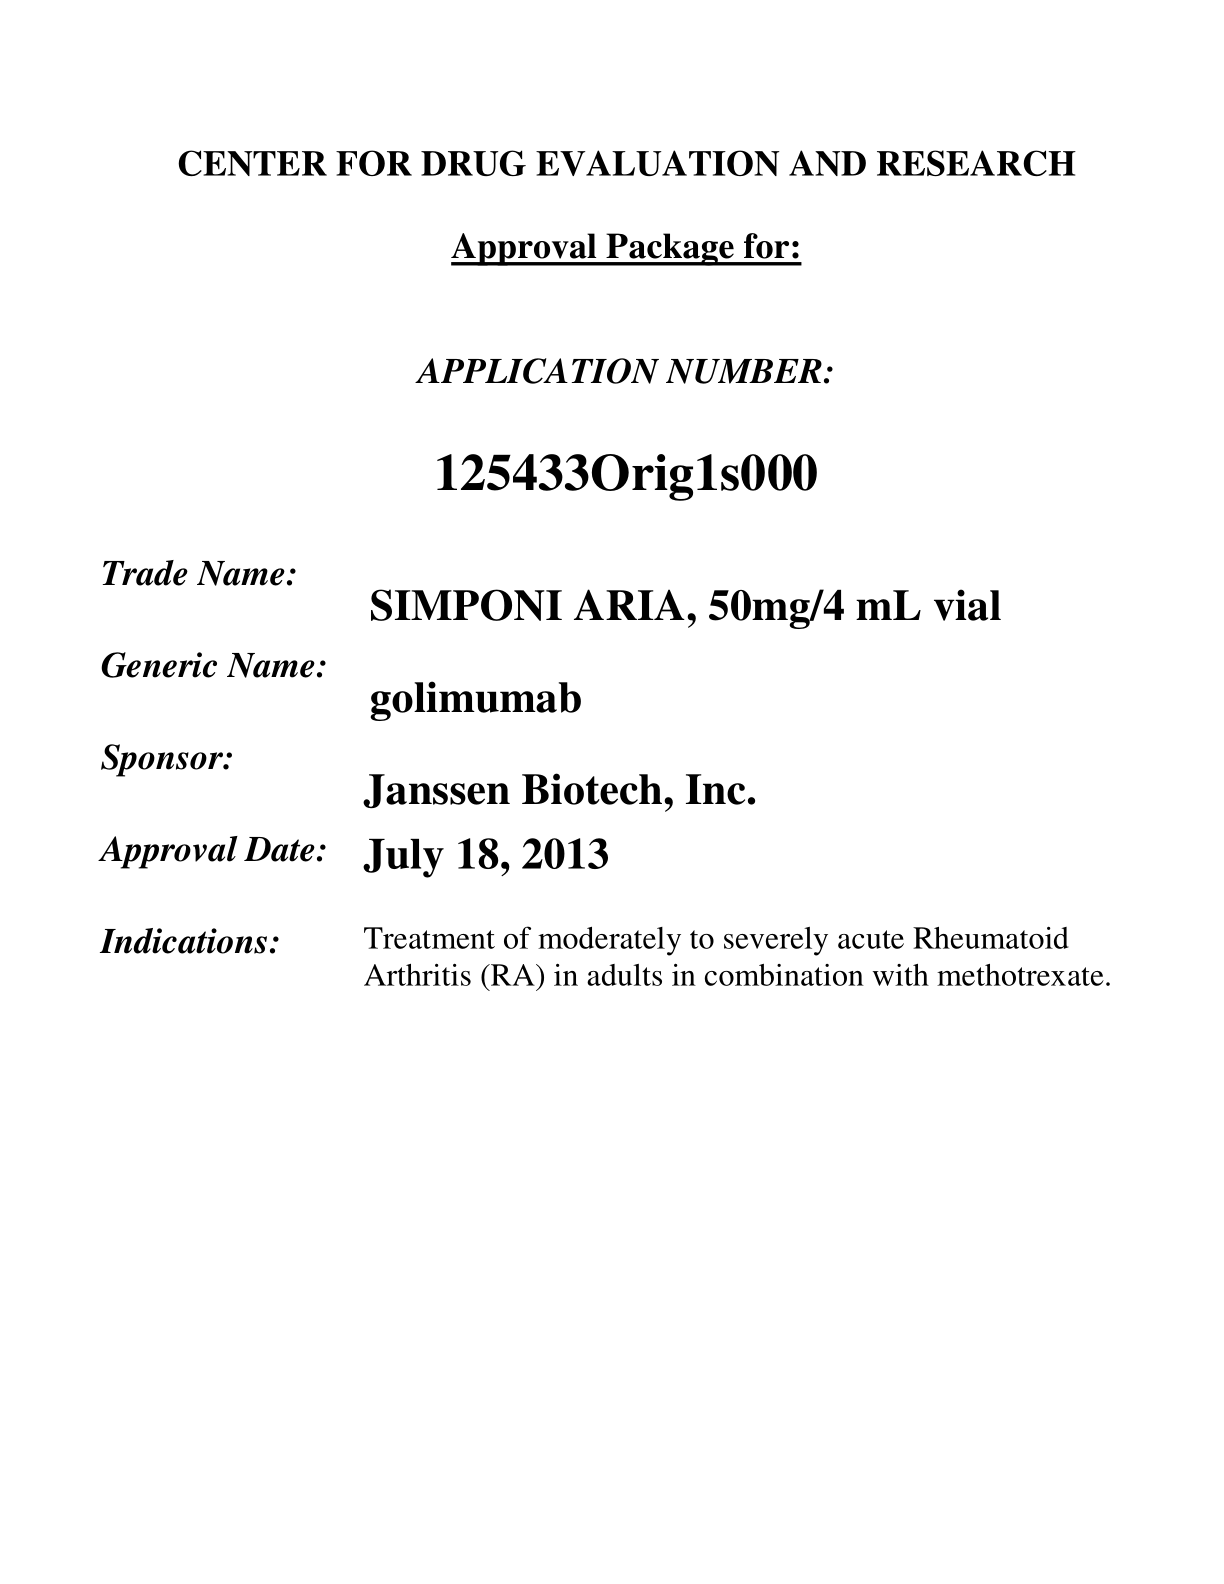nolines: (98, 557, 1115, 993)
